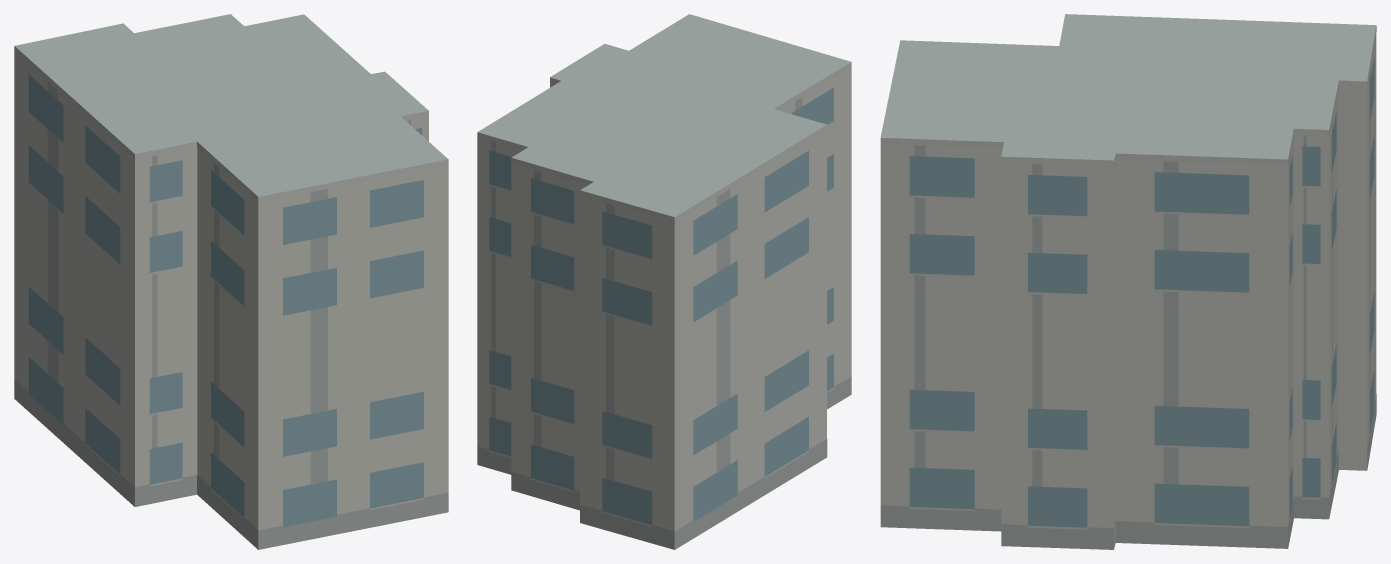
File: survey-upis-32520648.glb
3 views of the same model, side by side, from view 1: azimuth 30°, elevation 25°; view 2: azimuth 150°, elevation 25°; view 3: azimuth 270°, elevation 25° (orthographic). The views are drawn at different scales.
Visible parts, largest first — view 1: survey-upis-32520648.tmp; view 2: survey-upis-32520648.tmp; view 3: survey-upis-32520648.tmp.
Boxes of the visible parts, box(x1,y1,x2,y2) form: survey-upis-32520648.tmp: box(14, 14, 448, 549); survey-upis-32520648.tmp: box(477, 14, 851, 549); survey-upis-32520648.tmp: box(880, 14, 1376, 549).
Bounding box in the file's own units: 12.36 × 15.3 × 17.67.
